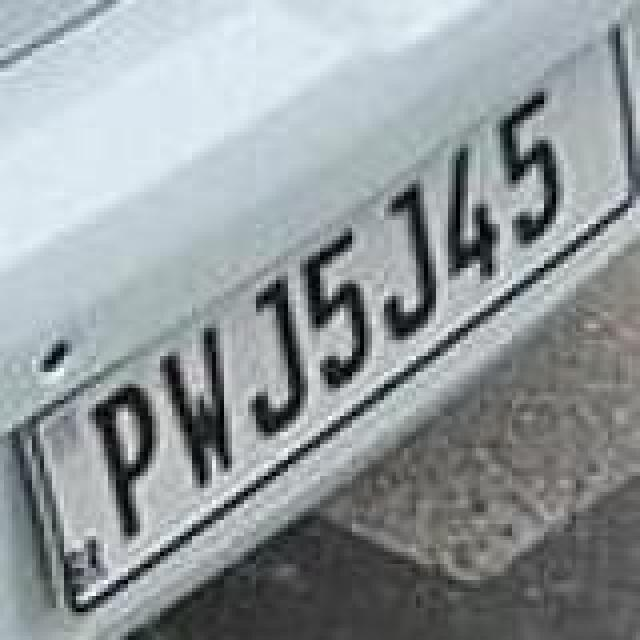4: (440, 142, 504, 290)
5: (302, 230, 378, 394), (496, 88, 568, 248)
J: (240, 274, 312, 446), (376, 178, 440, 342)
P: (82, 380, 158, 540)
W: (158, 318, 242, 490)
